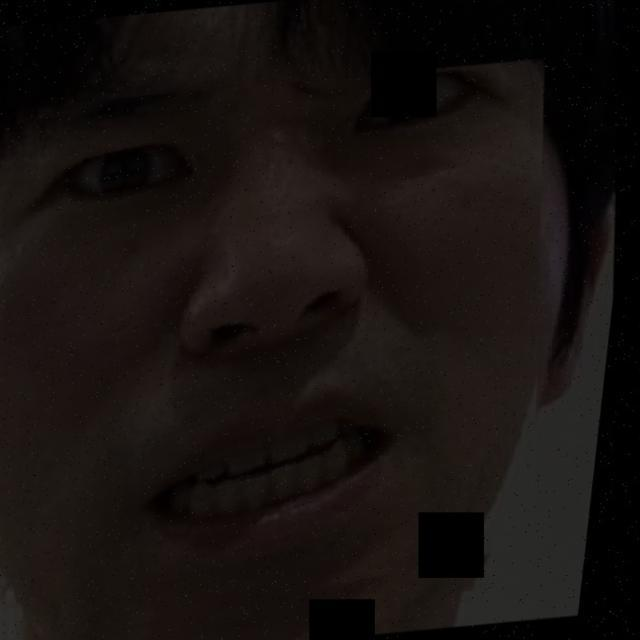Angry: (23, 22, 597, 595)
